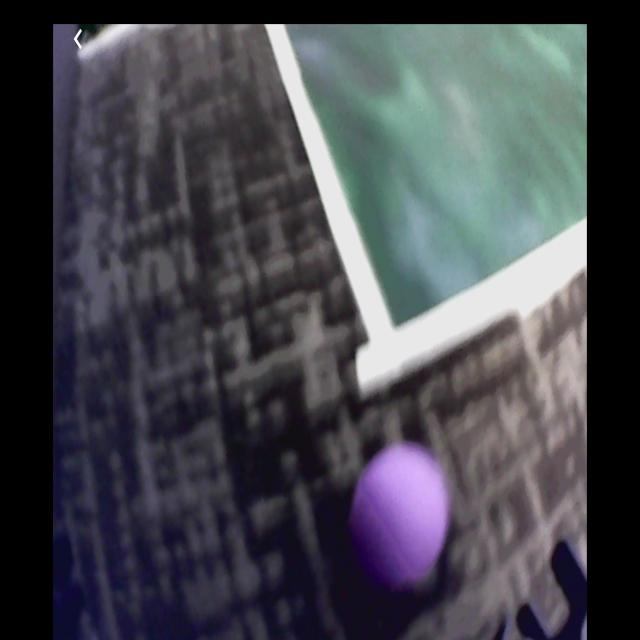ball: (349, 444, 455, 579)
